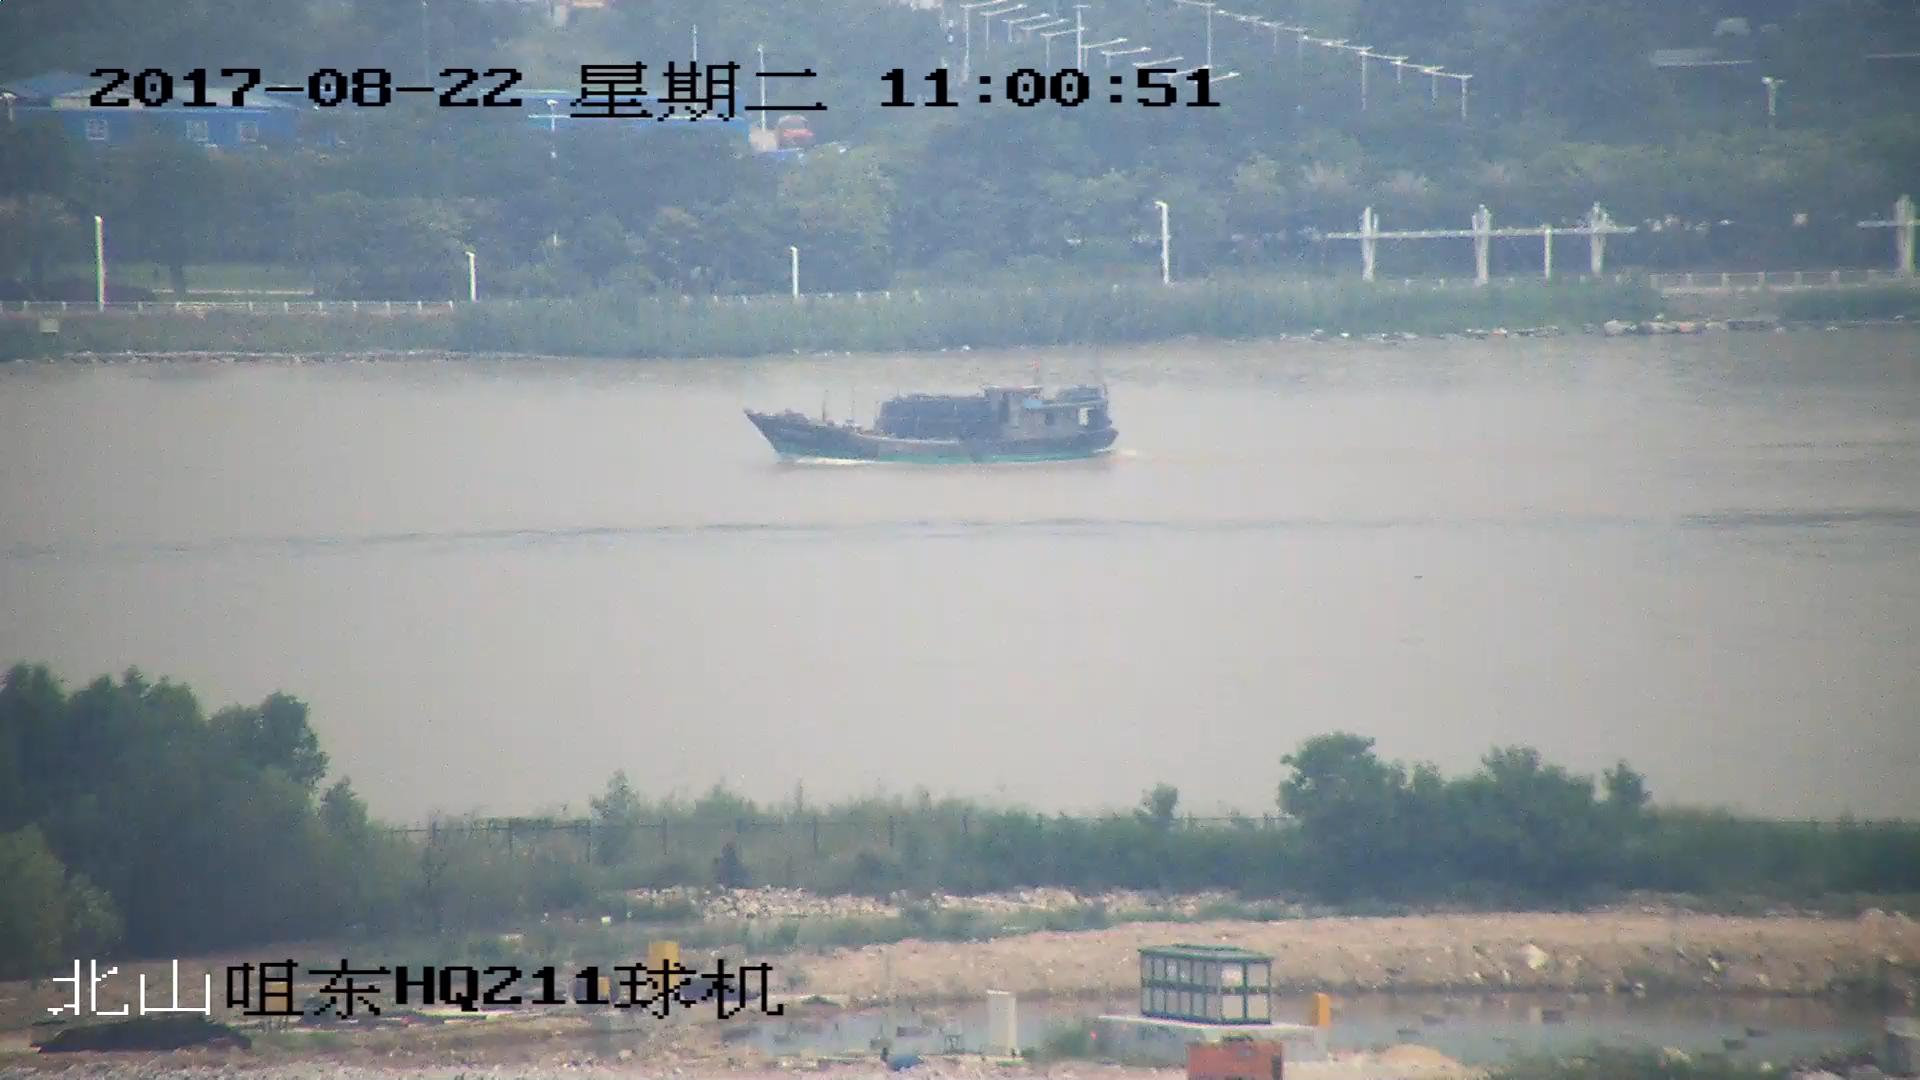fishing boat: (749, 386, 1123, 462)
